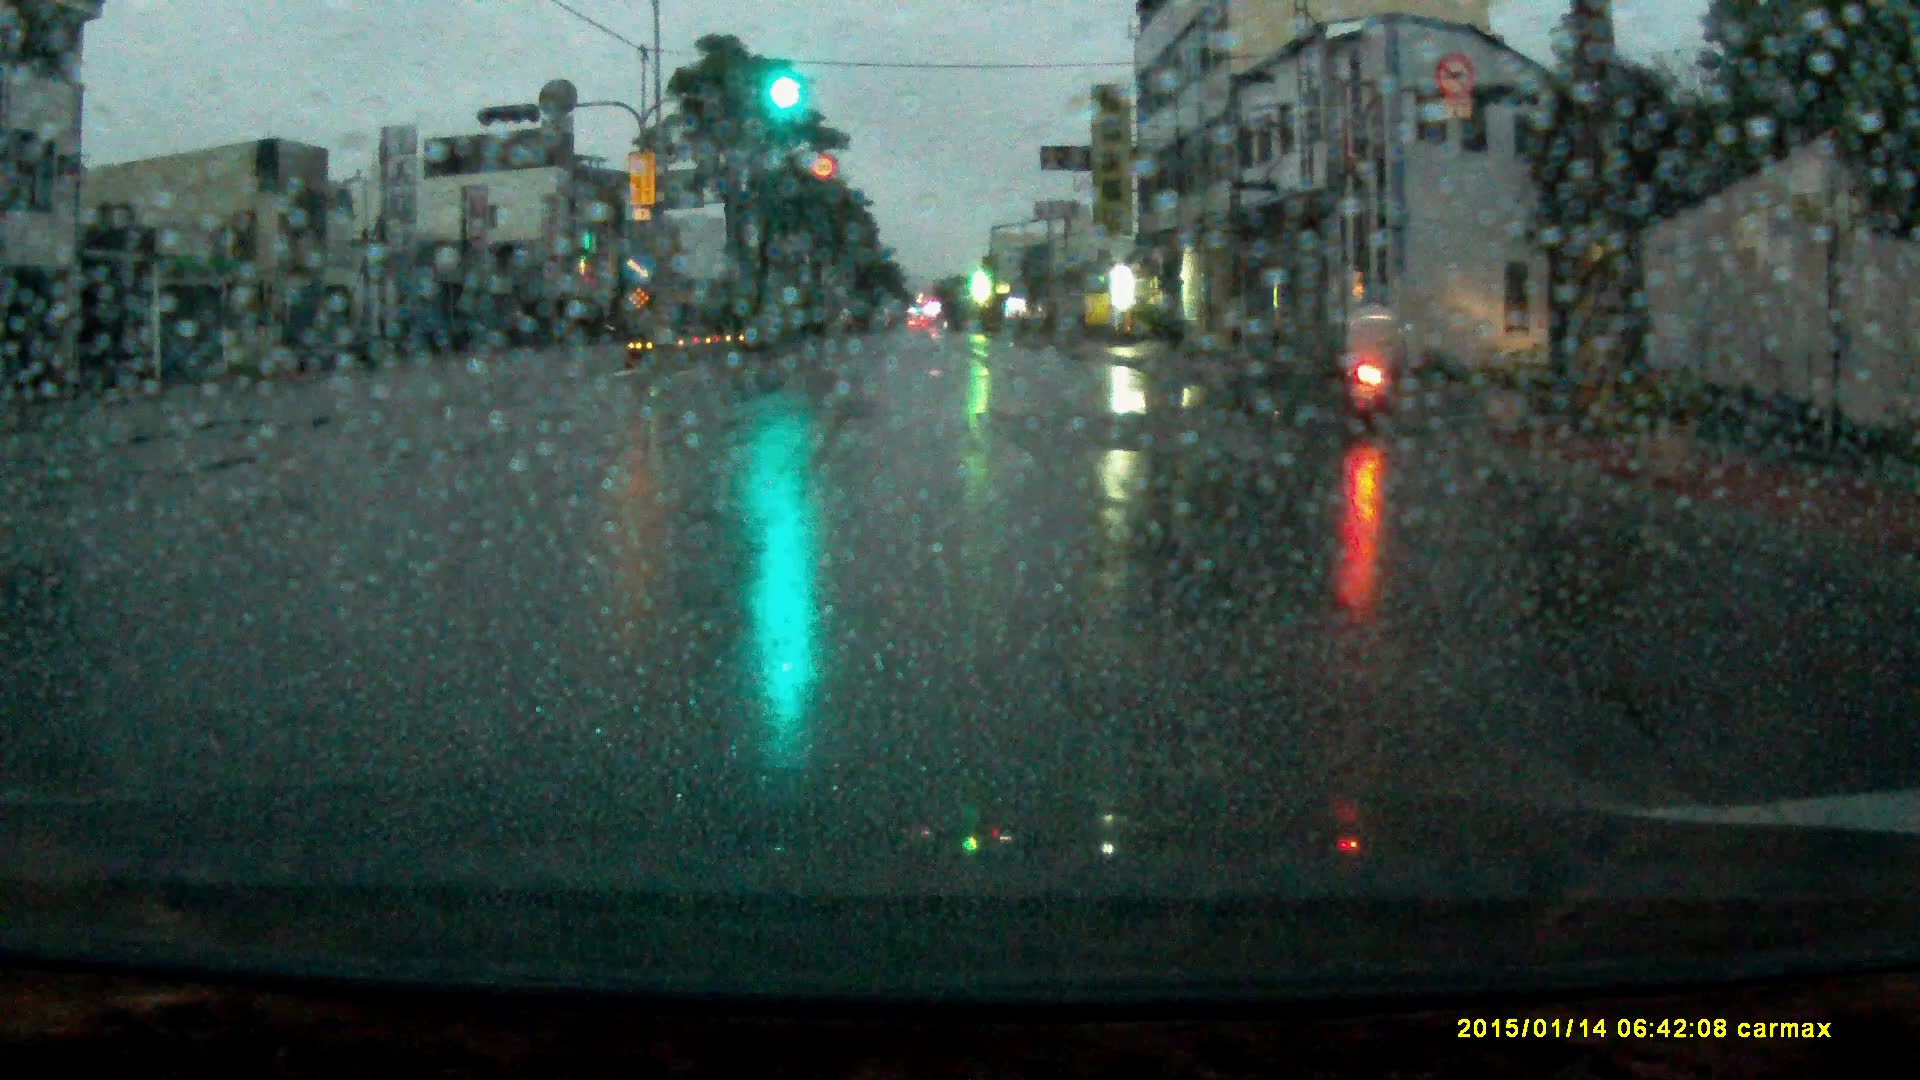rider: (1330, 285, 1418, 424)
